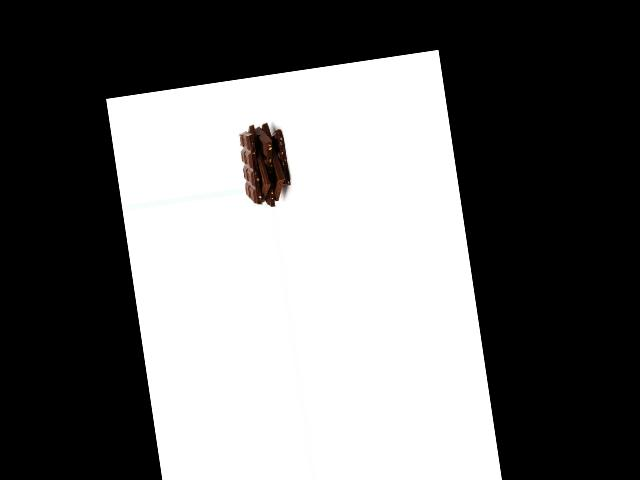chocolate: (255, 121, 297, 202)
